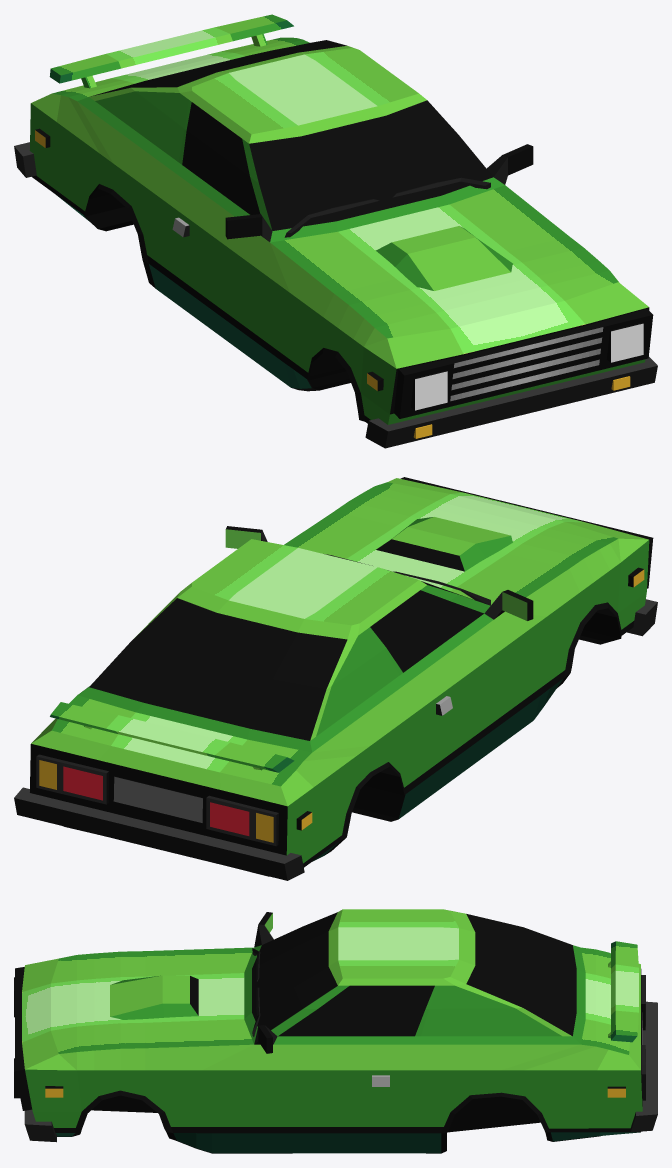
File: SportCar.001.fbx
3 views of the same model, one above another, from view 1: azimuth 30°, elevation 25°; view 2: azimuth 150°, elevation 25°; view 3: azimuth 270°, elevation 25° (orthographic). The views are drawn at different scales.
Parts seen in each view (by area): view 1: SportCar.001; view 2: SportCar.001; view 3: SportCar.001.
Part boxes in pixels (x1,y1,x2,y2): SportCar.001: [14, 14, 657, 448]; SportCar.001: [14, 477, 657, 880]; SportCar.001: [14, 909, 657, 1153].
Size of the model in its own units: 1.75 by 1.05 by 3.77.
